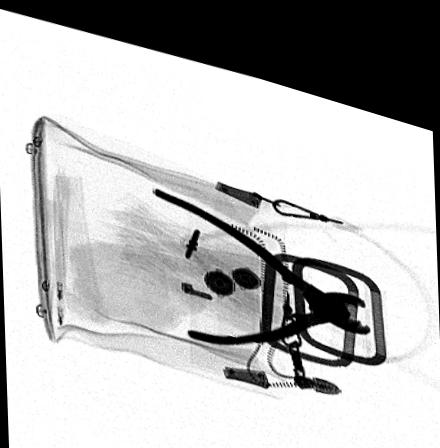Pliers: (151, 175, 369, 332)
